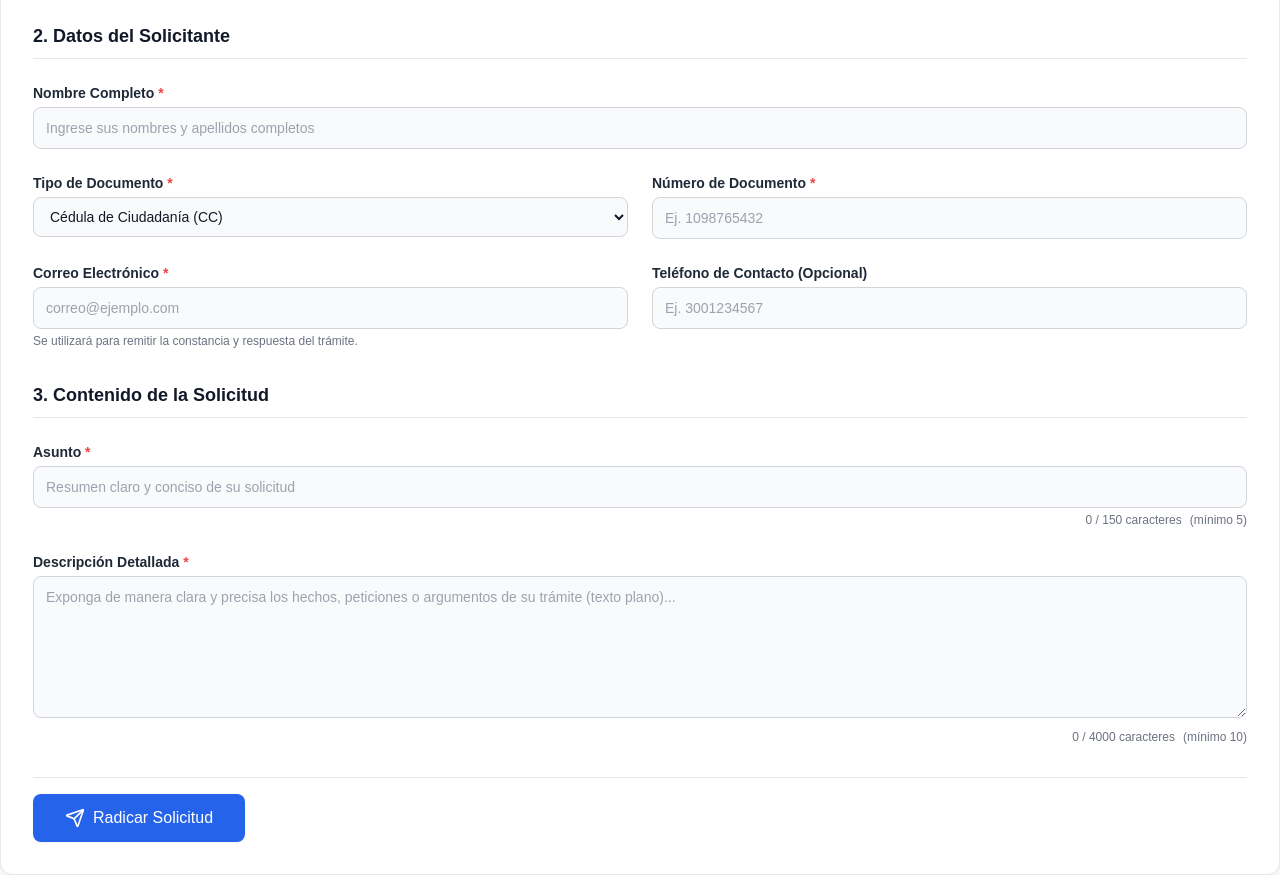
Test case: PqrsdfForm Component › validates required fields on submit and displays error messages
The width and height of the screenshot is (1280, 875).
(page scrolled)
# Click submit without filling required fields
Click the button "Radicar Solicitud": (139, 818) [33,794,245,842]
(page scrolled)
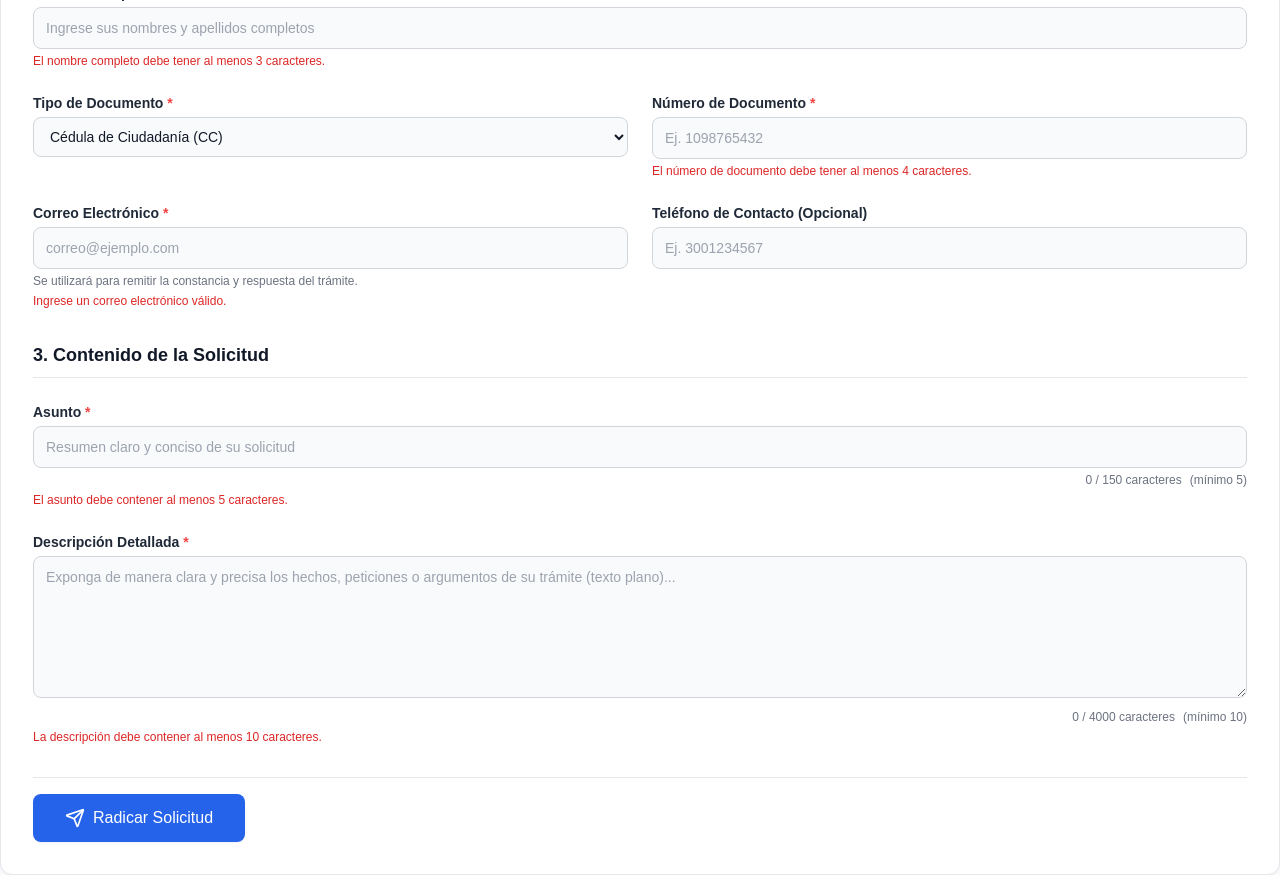
Expected: the text "El nombre completo debe tener al menos 3 caracteres." is shown, [33,54,325,68]
Expected: the text "El número de documento debe tener al menos 4 caracteres." is shown, [652,164,972,178]
Expected: the text "Ingrese un correo electrónico válido." is shown, [33,294,226,308]
